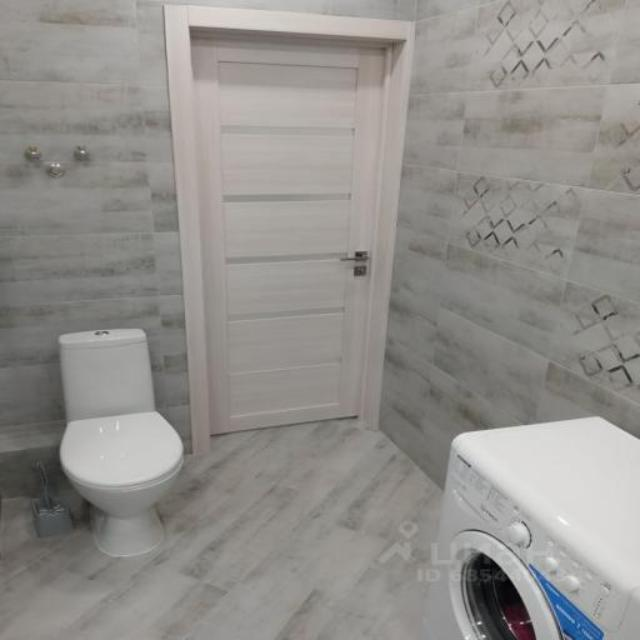Washing-Machine: (419, 416, 639, 638)
